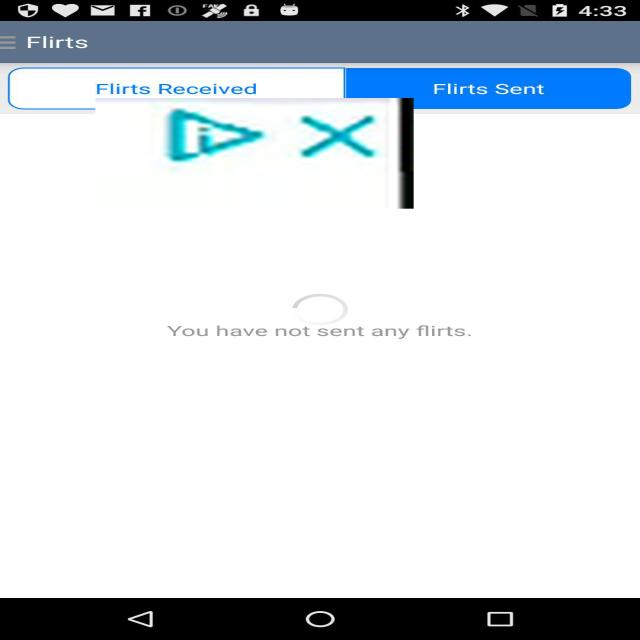sneaking: (95, 98, 414, 209)
